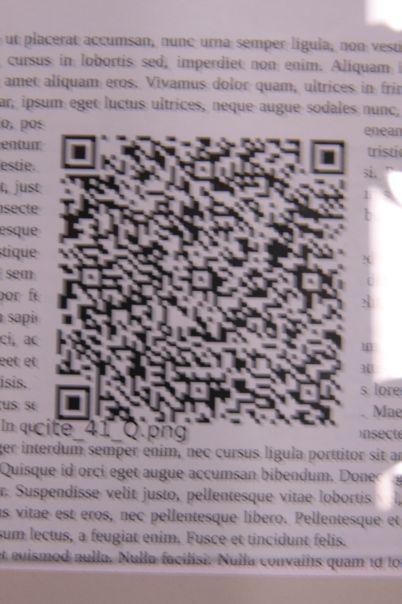qr_code: (55, 134, 346, 428)
